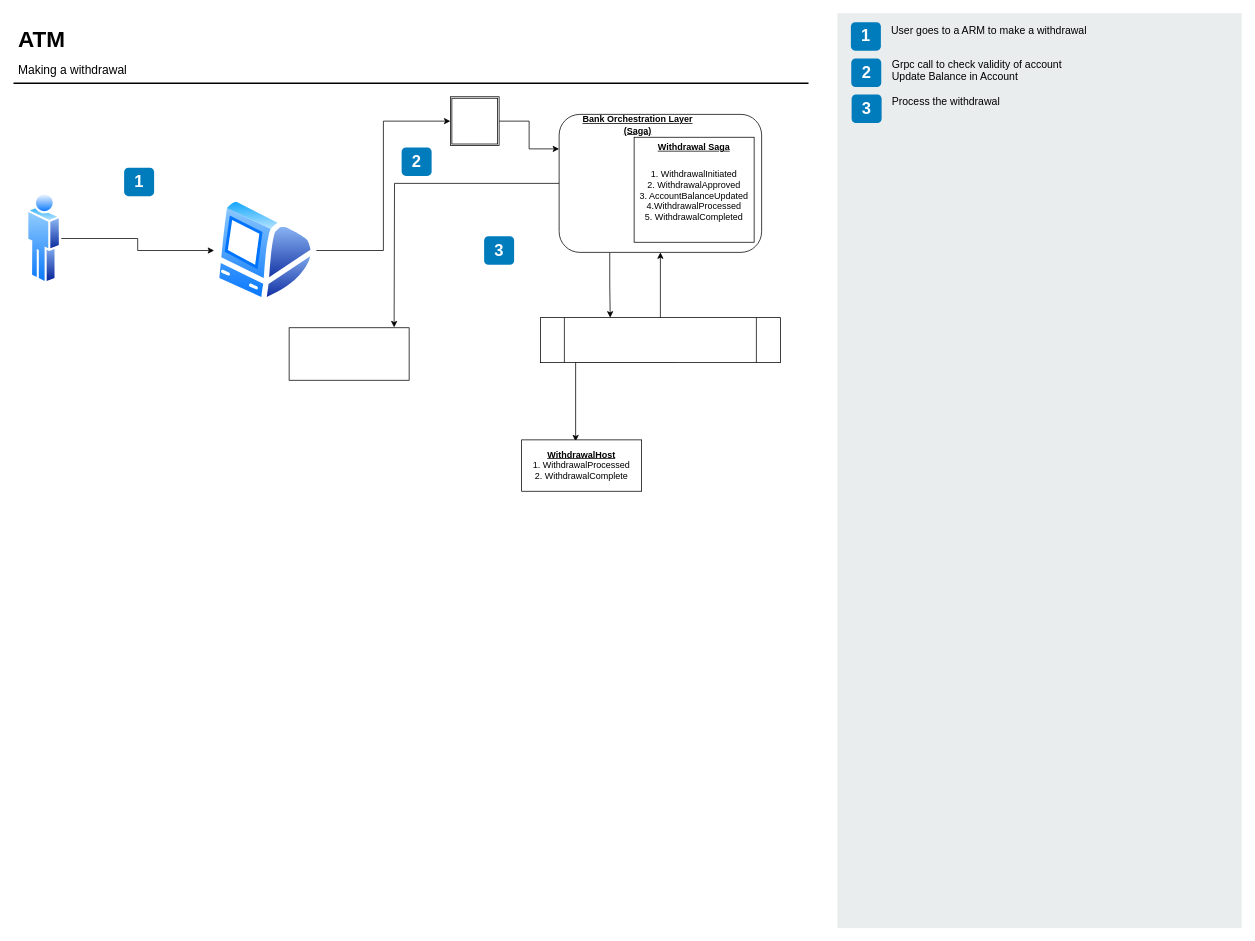
This 1255x941 diagram has some shape labels left out. Here are the shapes that lost their labels. From the top down, the centre of each, then its label:
(474,121): BankApi
(348,353): AccountHost 1. WithdrawalApproved 2.AccountBalanceUpdate
(660,340): RABBITMQ
